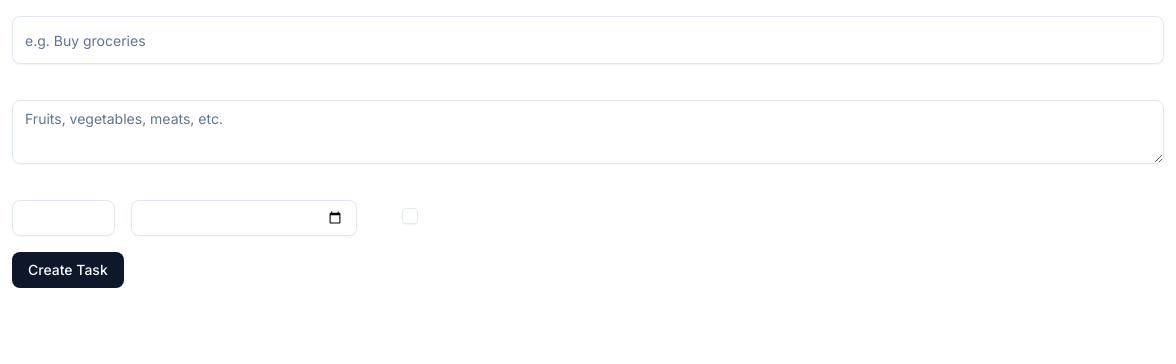
Test case: does not submit with empty fields and shows validation errors
The image size is (1176, 364).
Click the button "Create Task".
click(68, 270)  # box top-left (12, 252), bottom-right (124, 288)
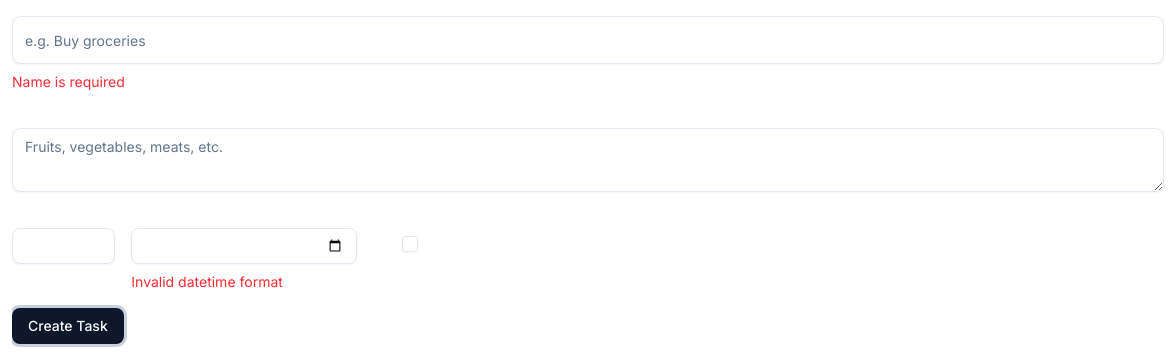
Expected: the text "Name is required" is shown, top-left (12, 73), bottom-right (125, 90)
Expected: the text "Invalid datetime format" is shown, top-left (131, 273), bottom-right (283, 290)
